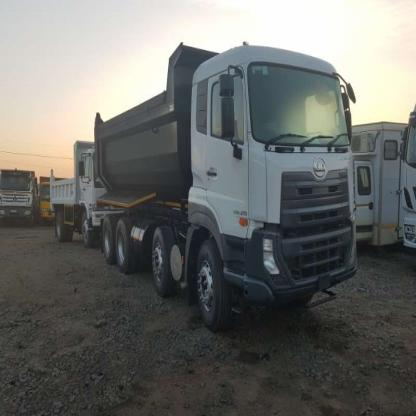dump_truck: (89, 27, 362, 334)
